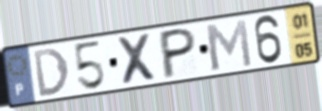5: (70, 38, 108, 92)
6: (252, 14, 284, 66)
D: (31, 46, 72, 99)
M: (202, 17, 255, 74)
P: (160, 25, 198, 82)
X: (114, 31, 162, 87)
